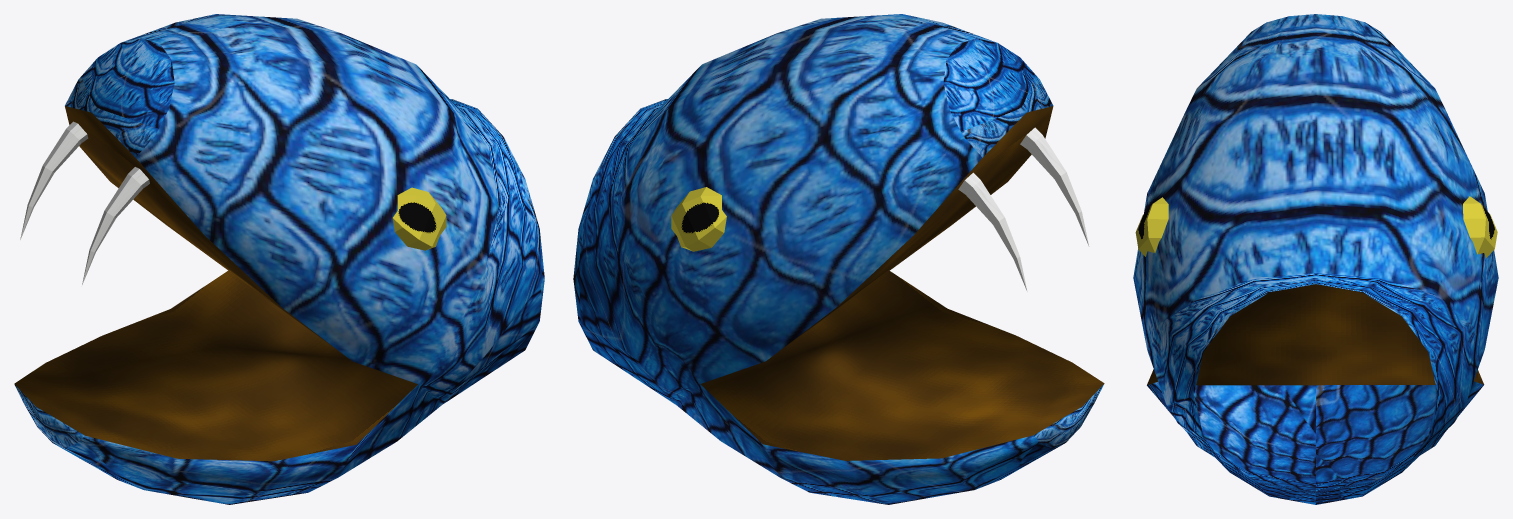
File: SnakeBodyPartHeadLeft.obj
The picture shows the model from 3 angles, left to right: view 1: azimuth 30°, elevation 25°; view 2: azimuth 150°, elevation 25°; view 3: azimuth 270°, elevation 25°; orthographic projection. The views are drawn at different scales.
Visible parts, largest first — view 1: Sphere; view 2: Sphere; view 3: Sphere.
Boxes of the visible parts, <box> form: Sphere: <box>14,14,544,504</box>; Sphere: <box>573,14,1104,504</box>; Sphere: <box>1133,14,1498,504</box>.
Size of the model in its own units: 1.24 by 1.24 by 0.975.
4 materials, 4 textured.
